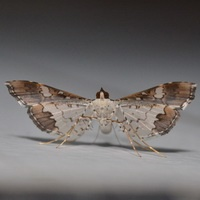insect: (5, 80, 196, 156)
